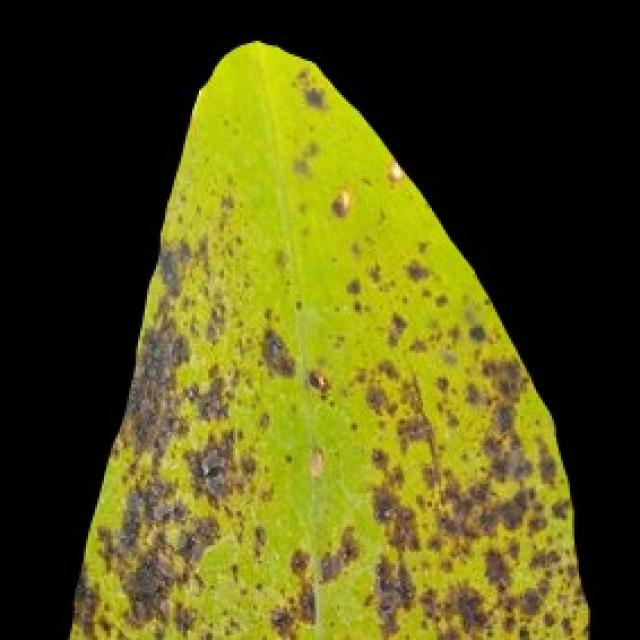mite: (183, 430, 237, 502), (249, 314, 303, 384), (192, 448, 231, 498), (258, 326, 294, 378), (323, 183, 355, 222), (301, 362, 332, 400), (380, 154, 407, 188), (384, 308, 407, 346), (403, 256, 430, 283), (199, 452, 224, 479), (328, 188, 351, 217), (301, 84, 326, 109), (305, 366, 326, 393), (384, 158, 403, 183), (466, 321, 486, 341), (344, 276, 362, 294)
spots: (59, 38, 597, 638)
